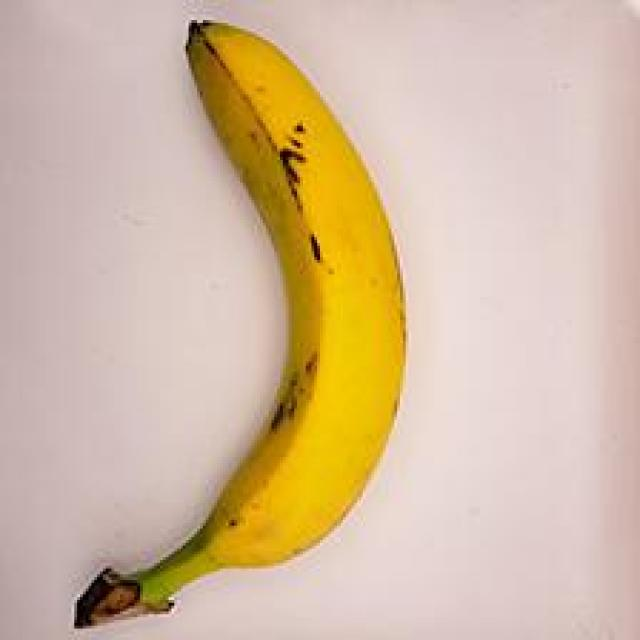ripe: (54, 4, 436, 630)
